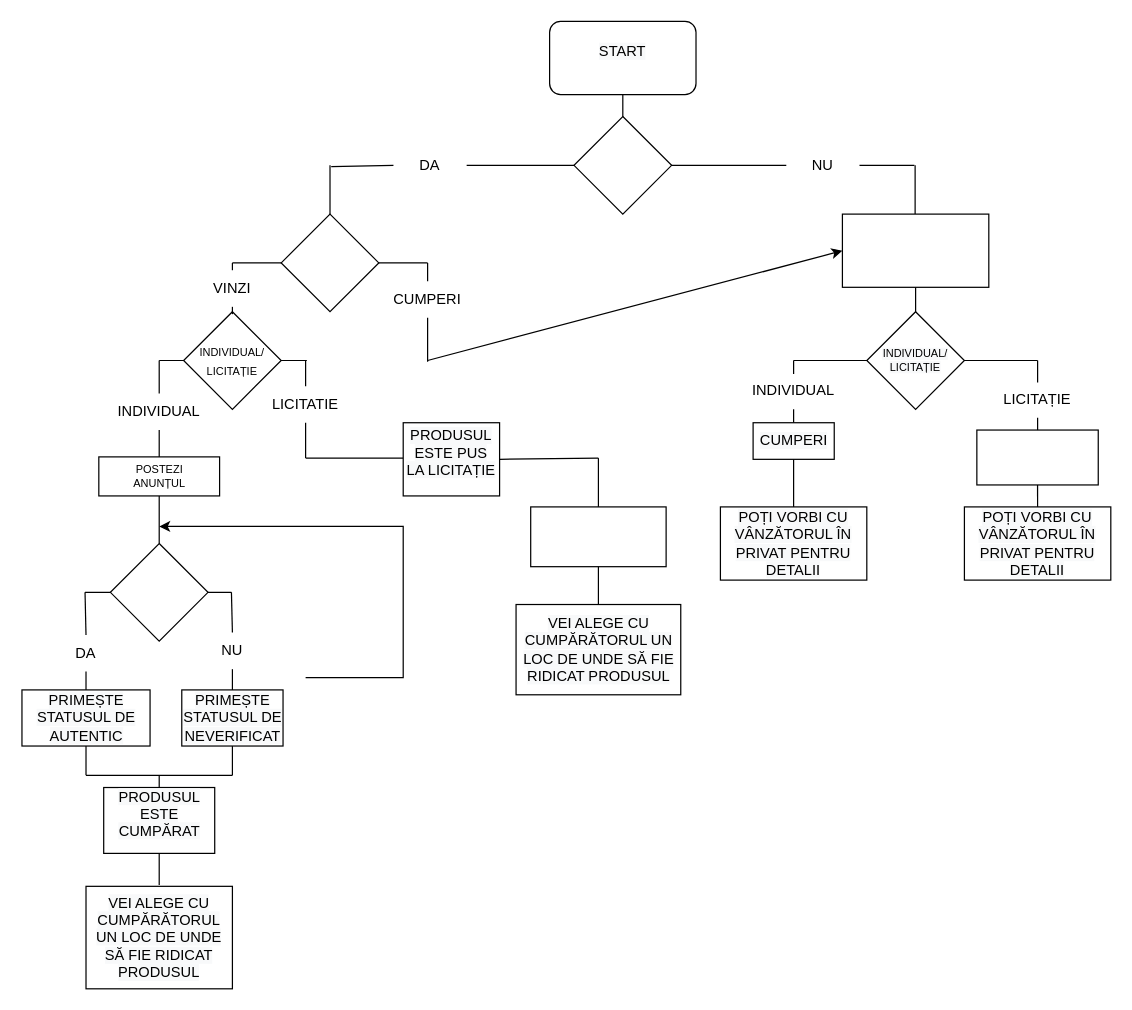
This 1132x1010 diagram has some shape labels left out. The centre of each missing label's shape, as x and y in pixels:
"ESTI LOGAT" belongs at pixel 622 164.
"EXPLOREAZĂ ANUNȚURI" belongs at pixel 915 250.
"OFERI CEL MAI MARE PREȚ ȘI CUMPERI" belongs at pixel 1037 457.
"PRODUS VALIDAT?" belongs at pixel 158 591.
"PRODUS VÂNDUT CELUI MAI MARE LICITATOR" belongs at pixel 597 536.
"VINZI / CUMPERI" belongs at pixel 329 262.
